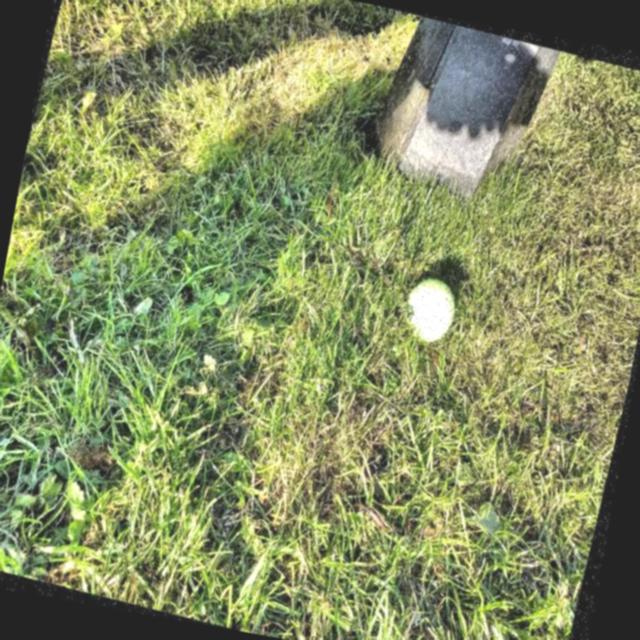Tennis Ball: (393, 268, 472, 366)
